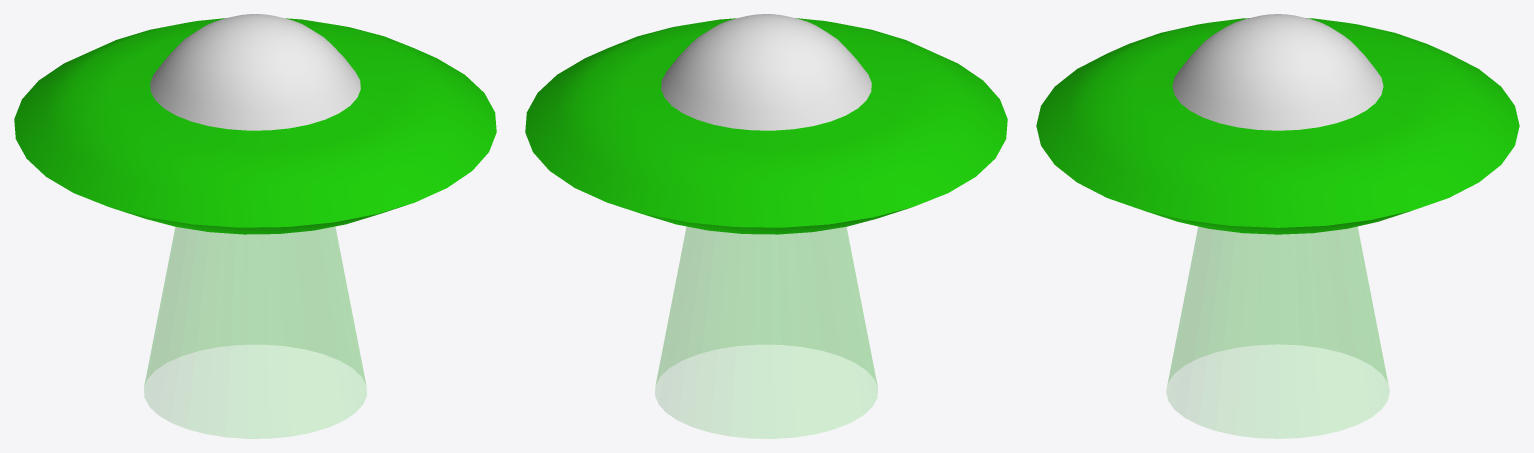
The model's file is UFO.fbx.
3 views of the same model, side by side, from view 1: azimuth 30°, elevation 25°; view 2: azimuth 150°, elevation 25°; view 3: azimuth 270°, elevation 25° (orthographic).
Visible parts, largest first — view 1: UFO, Cone; view 2: UFO, Cone; view 3: UFO, Cone.
Boxes of the visible parts, bbox=[...] form: UFO: bbox=[14, 14, 496, 234]; Cone: bbox=[144, 227, 366, 438]; UFO: bbox=[525, 14, 1007, 234]; Cone: bbox=[655, 227, 877, 438]; UFO: bbox=[1036, 14, 1519, 234]; Cone: bbox=[1166, 227, 1389, 438].
Size of the model in its own units: 432 by 362 by 432.
